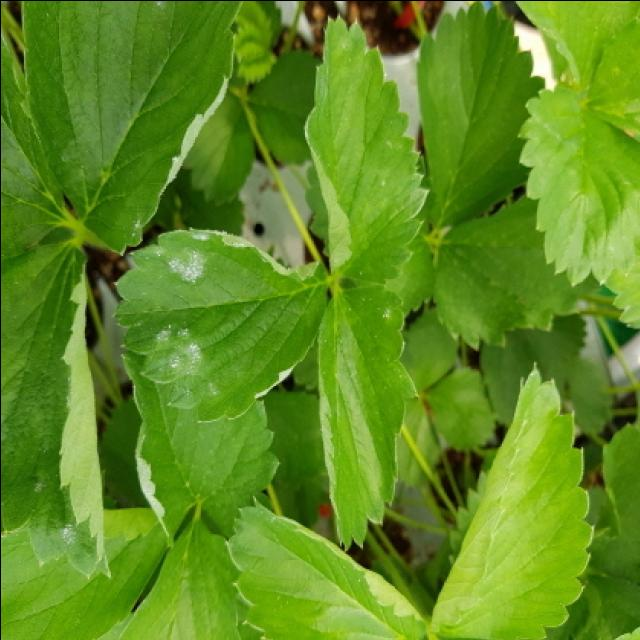Powdery Mildew Leaf: (20, 2, 243, 255), (110, 227, 329, 424), (2, 237, 112, 580), (120, 350, 280, 550), (315, 280, 421, 552)
